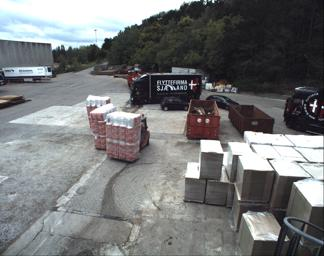rockwool_batts: (106, 110, 140, 160), (90, 103, 116, 147), (86, 96, 109, 118)
